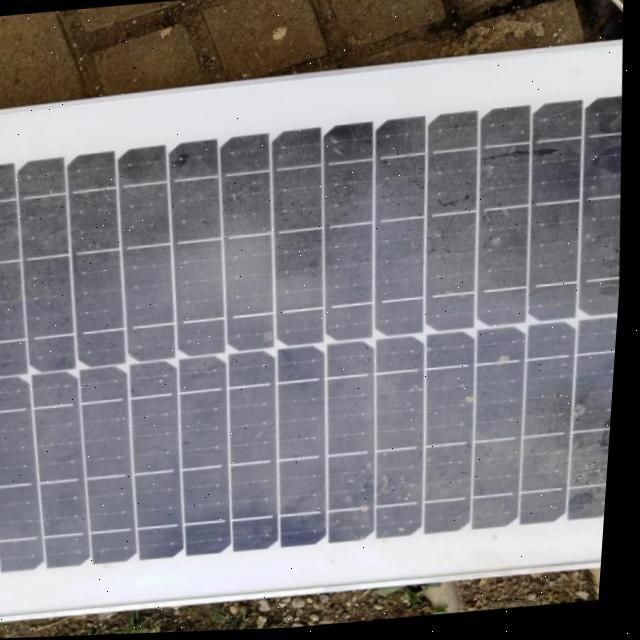Surface Contaminant: (0, 110, 624, 594)
